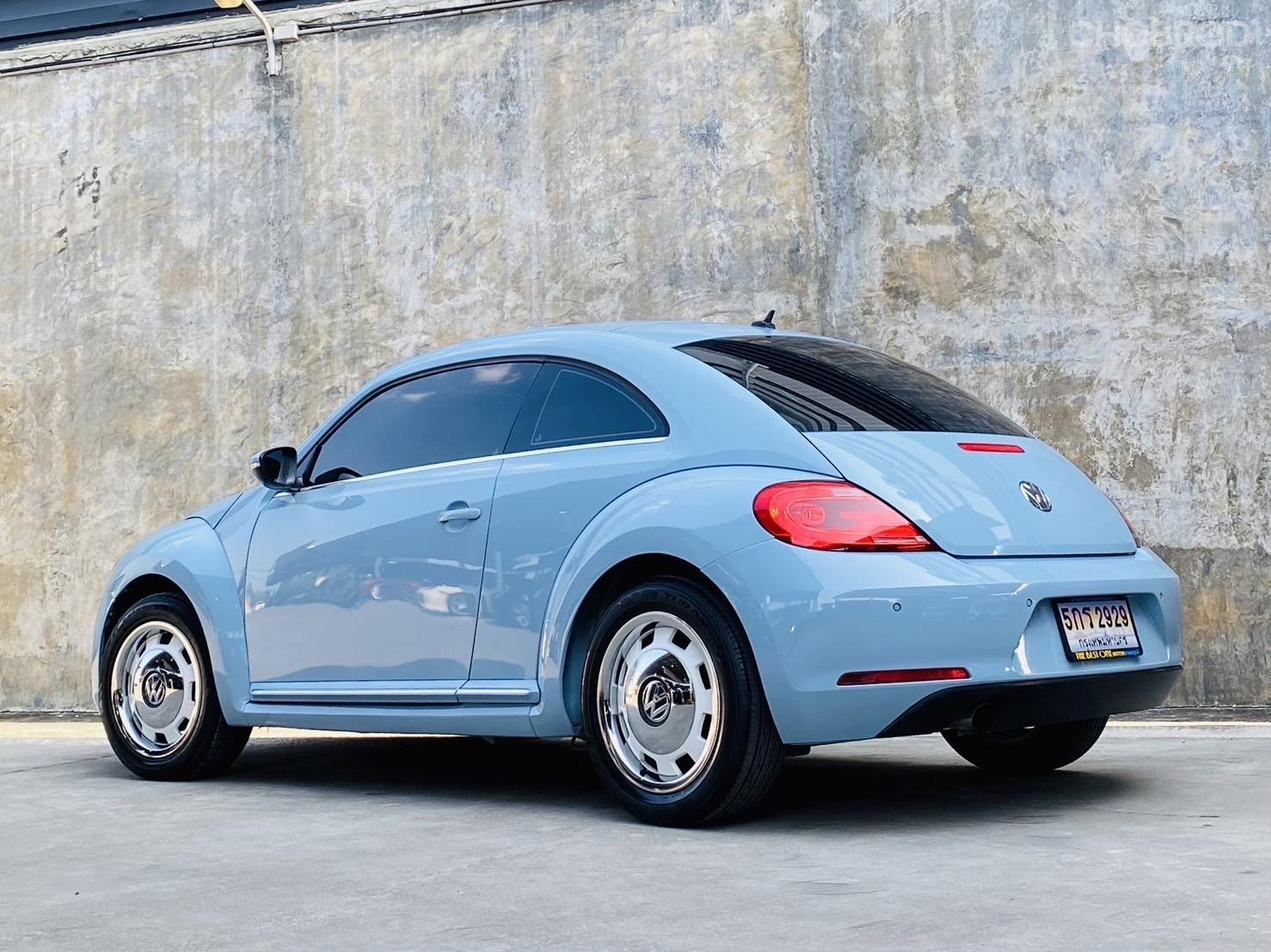license-plate: (1051, 594, 1146, 665)
